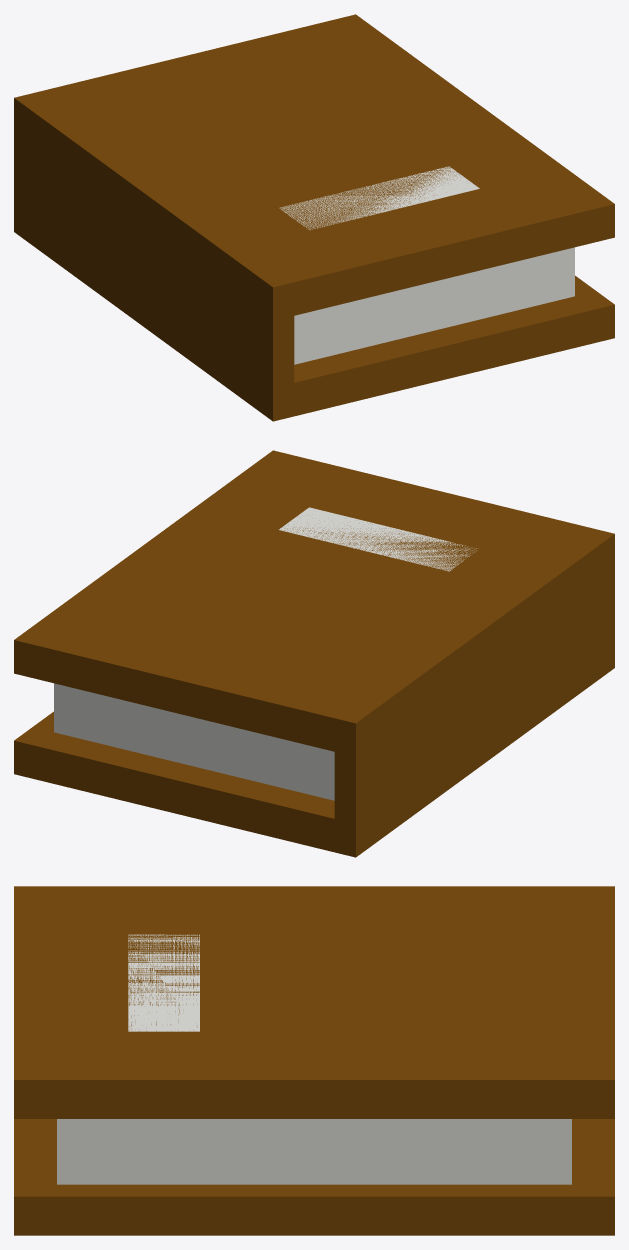
The model's file is inv_silver_book_2.obj.
3 views of the same model, one above another, from view 1: azimuth 30°, elevation 25°; view 2: azimuth 150°, elevation 25°; view 3: azimuth 270°, elevation 25° (orthographic). The views are drawn at different scales.
Size of the model in its own units: 0.25 by 0.0938 by 0.3281.
